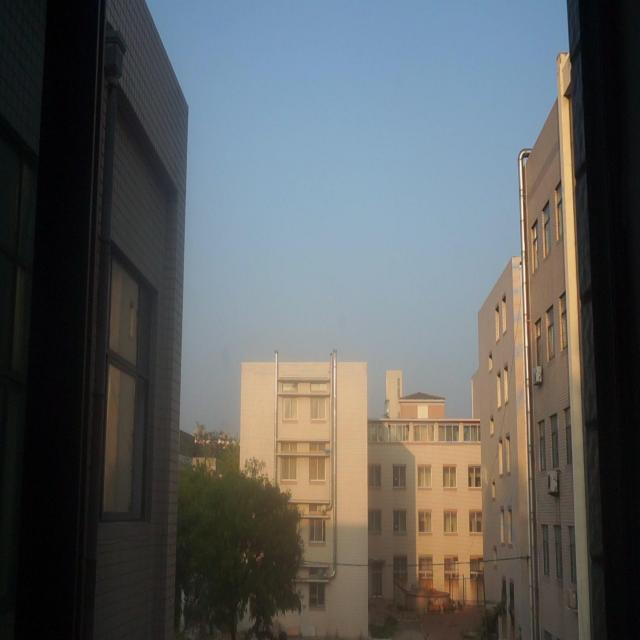UAV: (323, 448, 333, 455)
